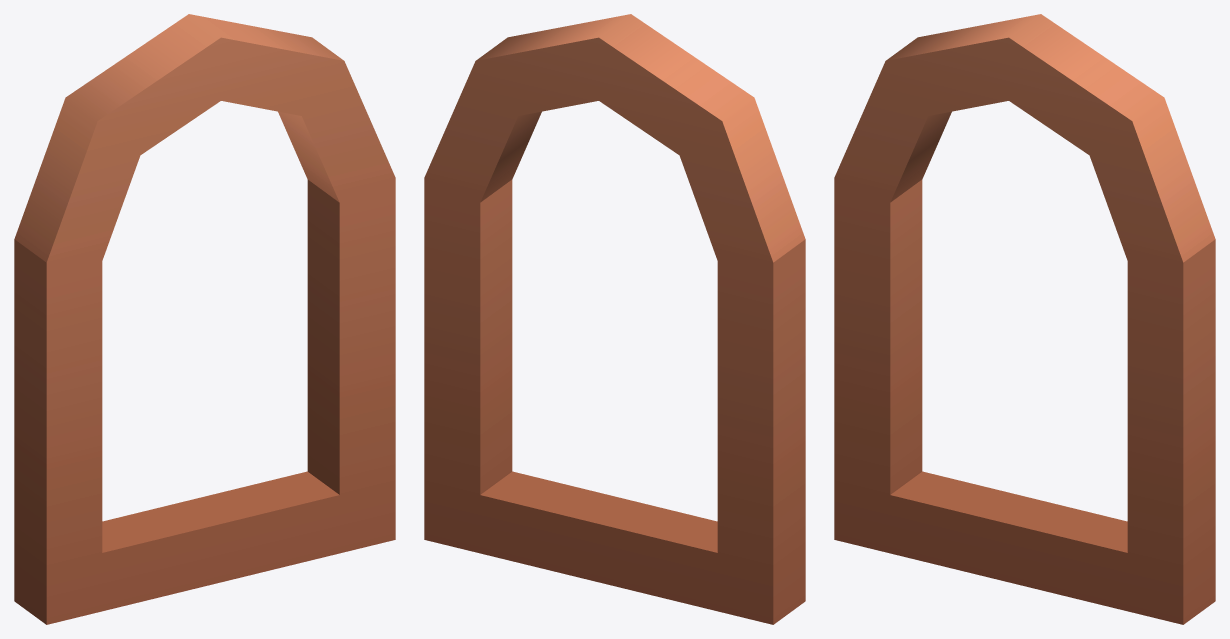
Rendered from window-brown-round-wide.glb.
The picture shows the model from 3 angles, left to right: view 1: azimuth 30°, elevation 25°; view 2: azimuth 150°, elevation 25°; view 3: azimuth 330°, elevation 25°; orthographic projection.
Parts seen in each view (by area): view 1: window-brown-round-wide; view 2: window-brown-round-wide; view 3: window-brown-round-wide.
Part boxes in pixels (left/top/right/bottom): window-brown-round-wide: left=14, top=14, right=395, bottom=624; window-brown-round-wide: left=424, top=14, right=805, bottom=624; window-brown-round-wide: left=834, top=14, right=1215, bottom=624.
Bounding box in the file's own units: 0.3125 × 0.4662 × 0.05.
1 material, 1 textured.
